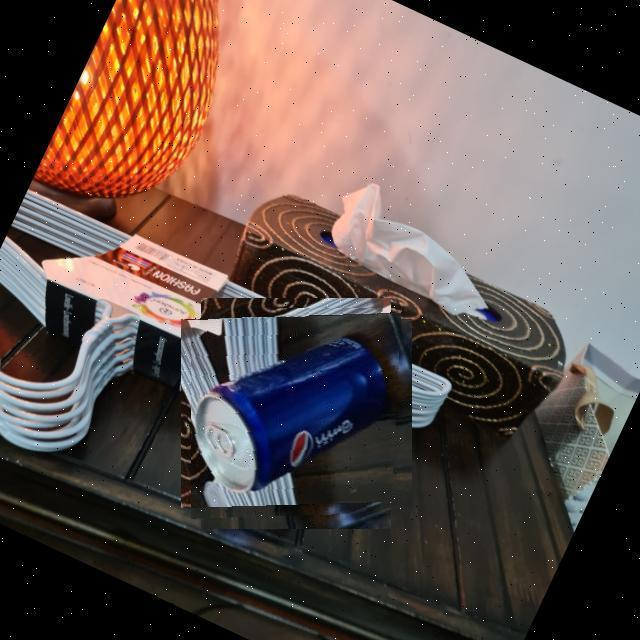recyclable: (191, 308, 402, 519)
